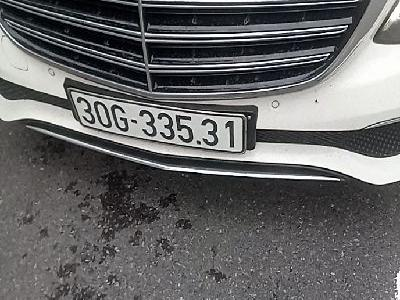number: (66, 87, 247, 154)
